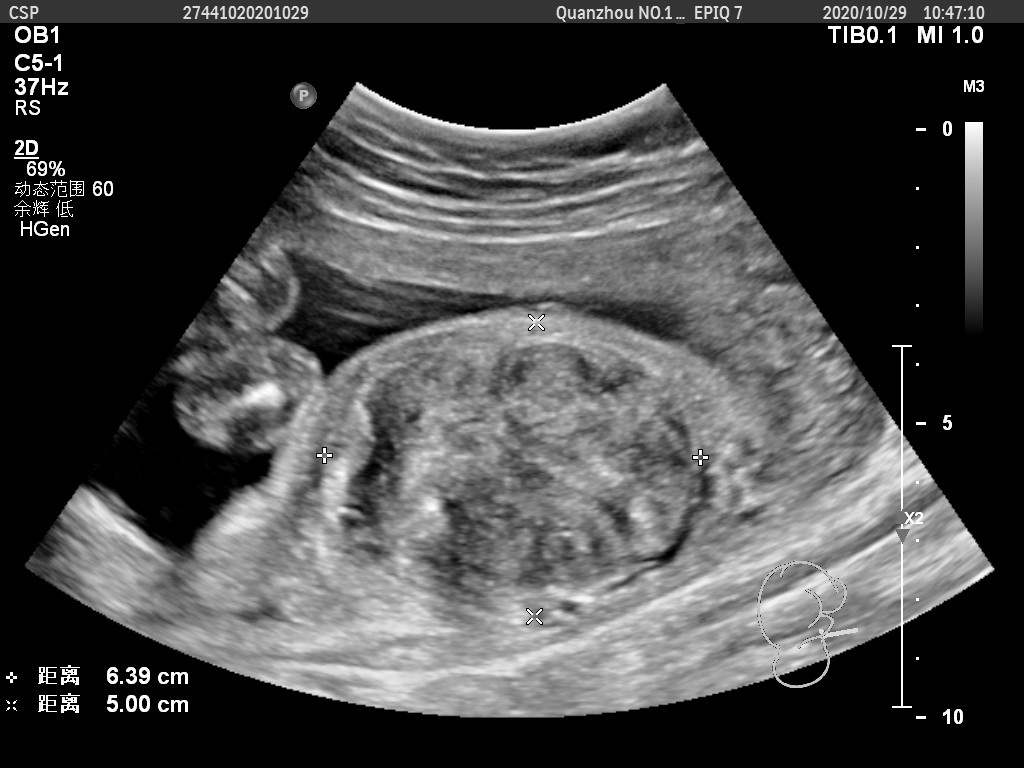肌瘤: (324, 324, 703, 615)
